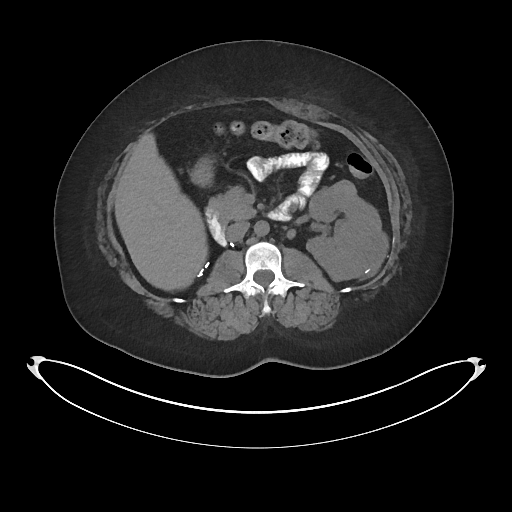Lesion: (337, 220, 391, 282)
